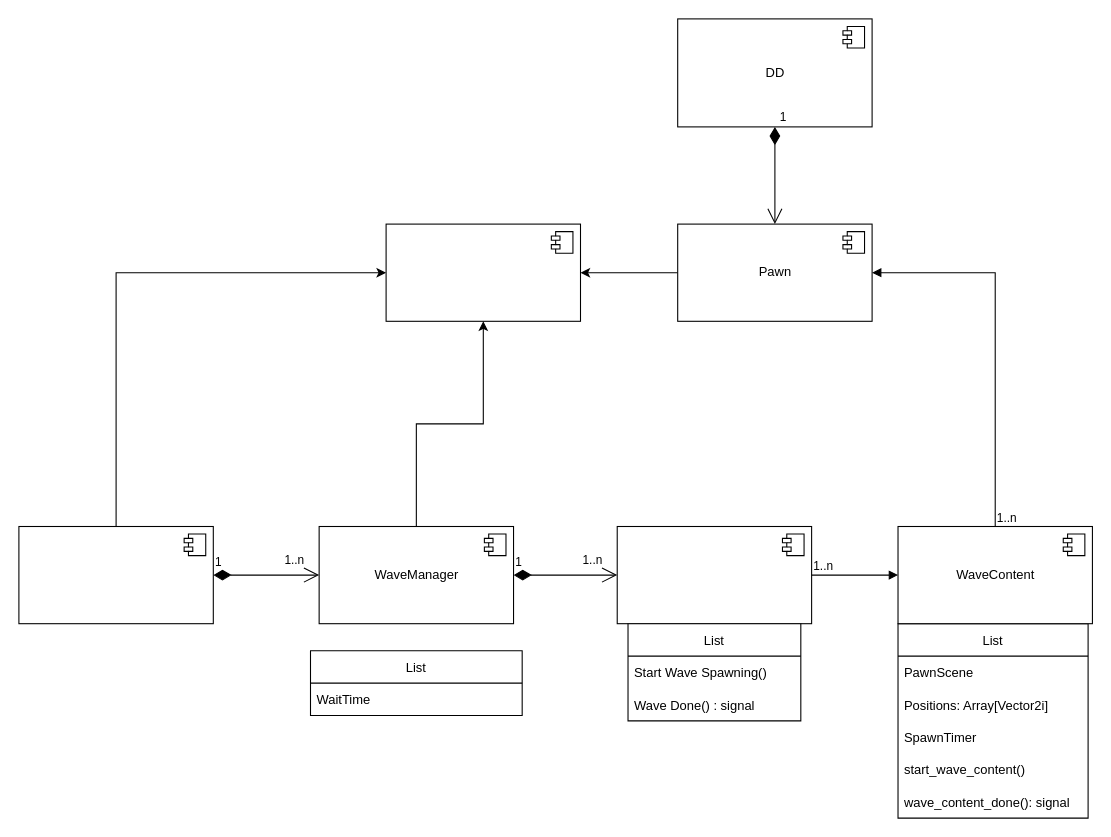
This 1111x837 diagram has some shape labels left out. The centre of each missing label's shape, as x and y in pixels:
"GridManager" belongs at (482,272).
"StageManager" belongs at (115,574).
"Wave" belongs at (714,574).
